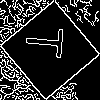T: (25, 25, 73, 60)
